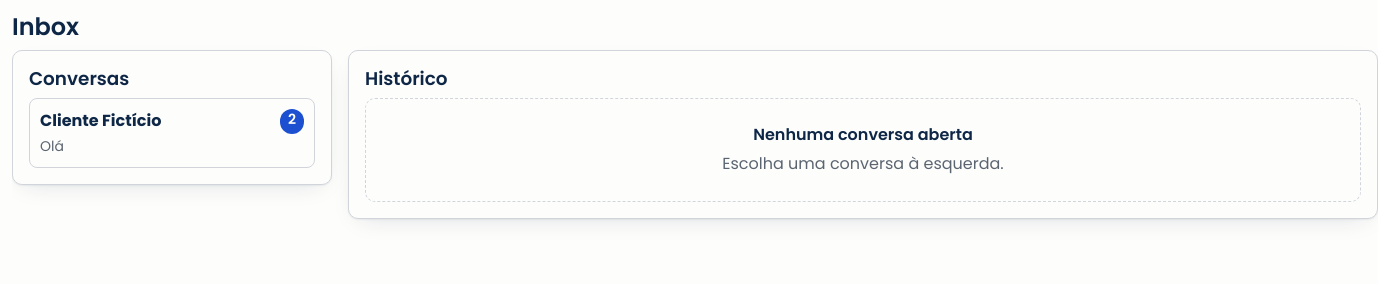
Test: TELA 3 — Inbox › conteúdo de mensagem é renderizado como texto, nunca como HTML
Click the button "Cliente Fictício 2 Olá" at [101, 120], box [29,98,315,168]
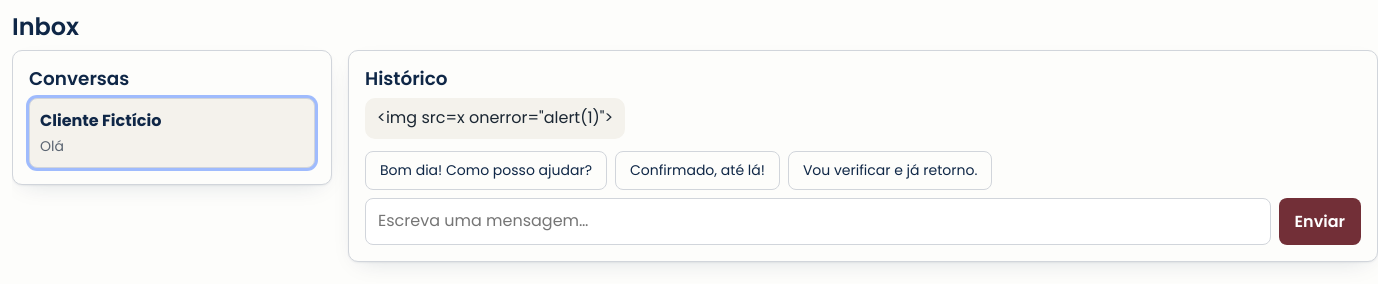
expect the text "<img src=x onerror=\"alert(1)\">" is shown: met, box [377,106,613,131]
